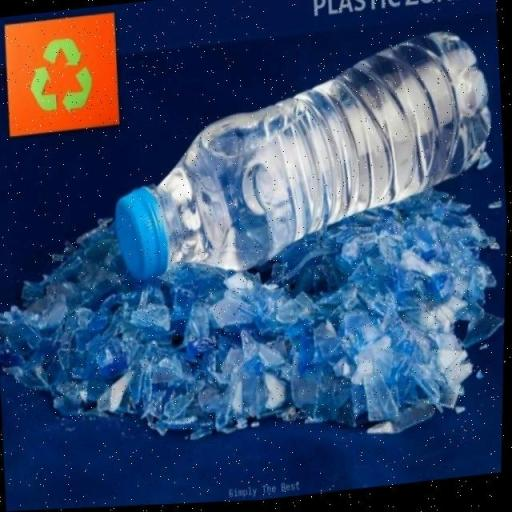plastic: (99, 26, 505, 292)
